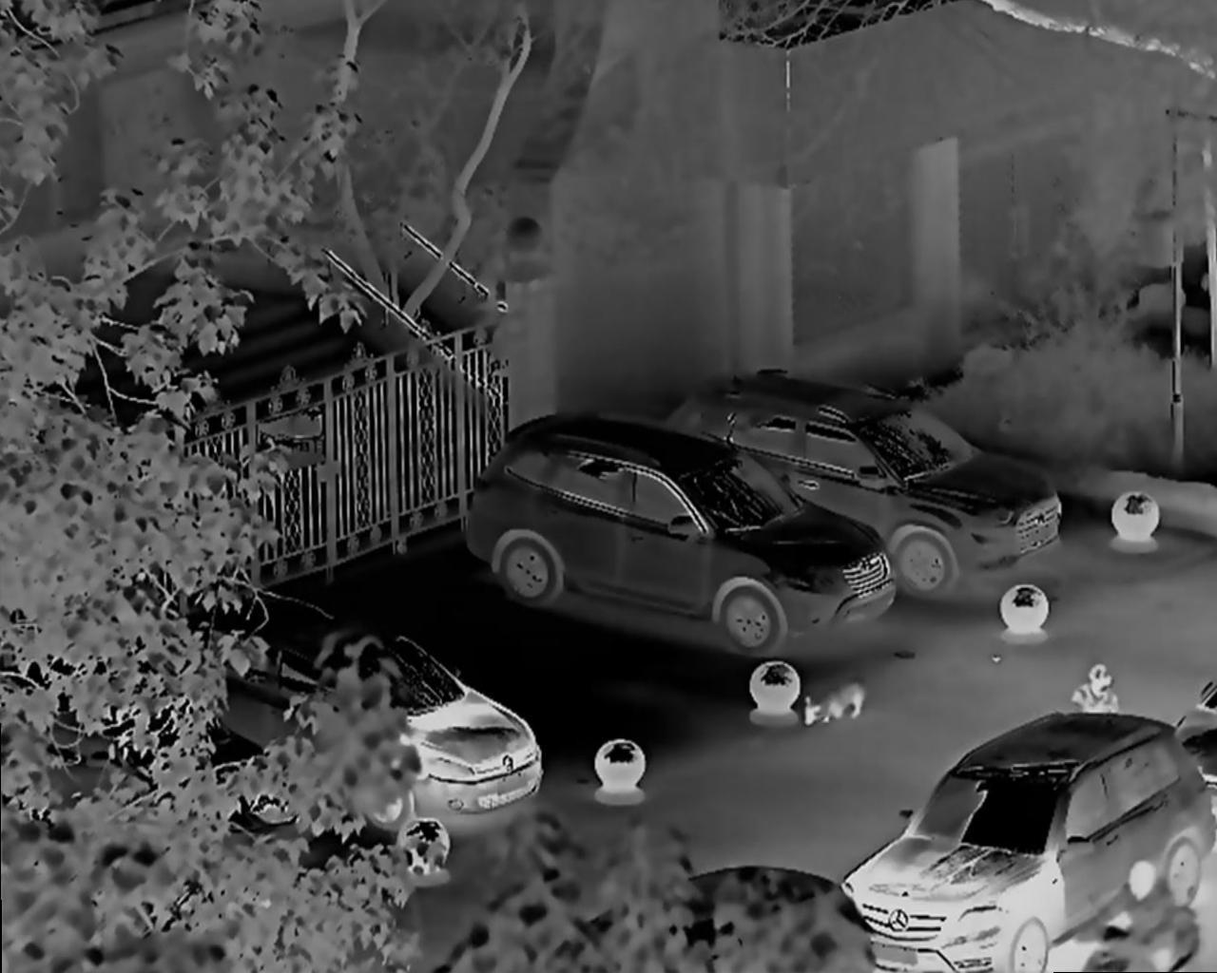person: (1106, 858, 1203, 967), (1062, 654, 1121, 731)
